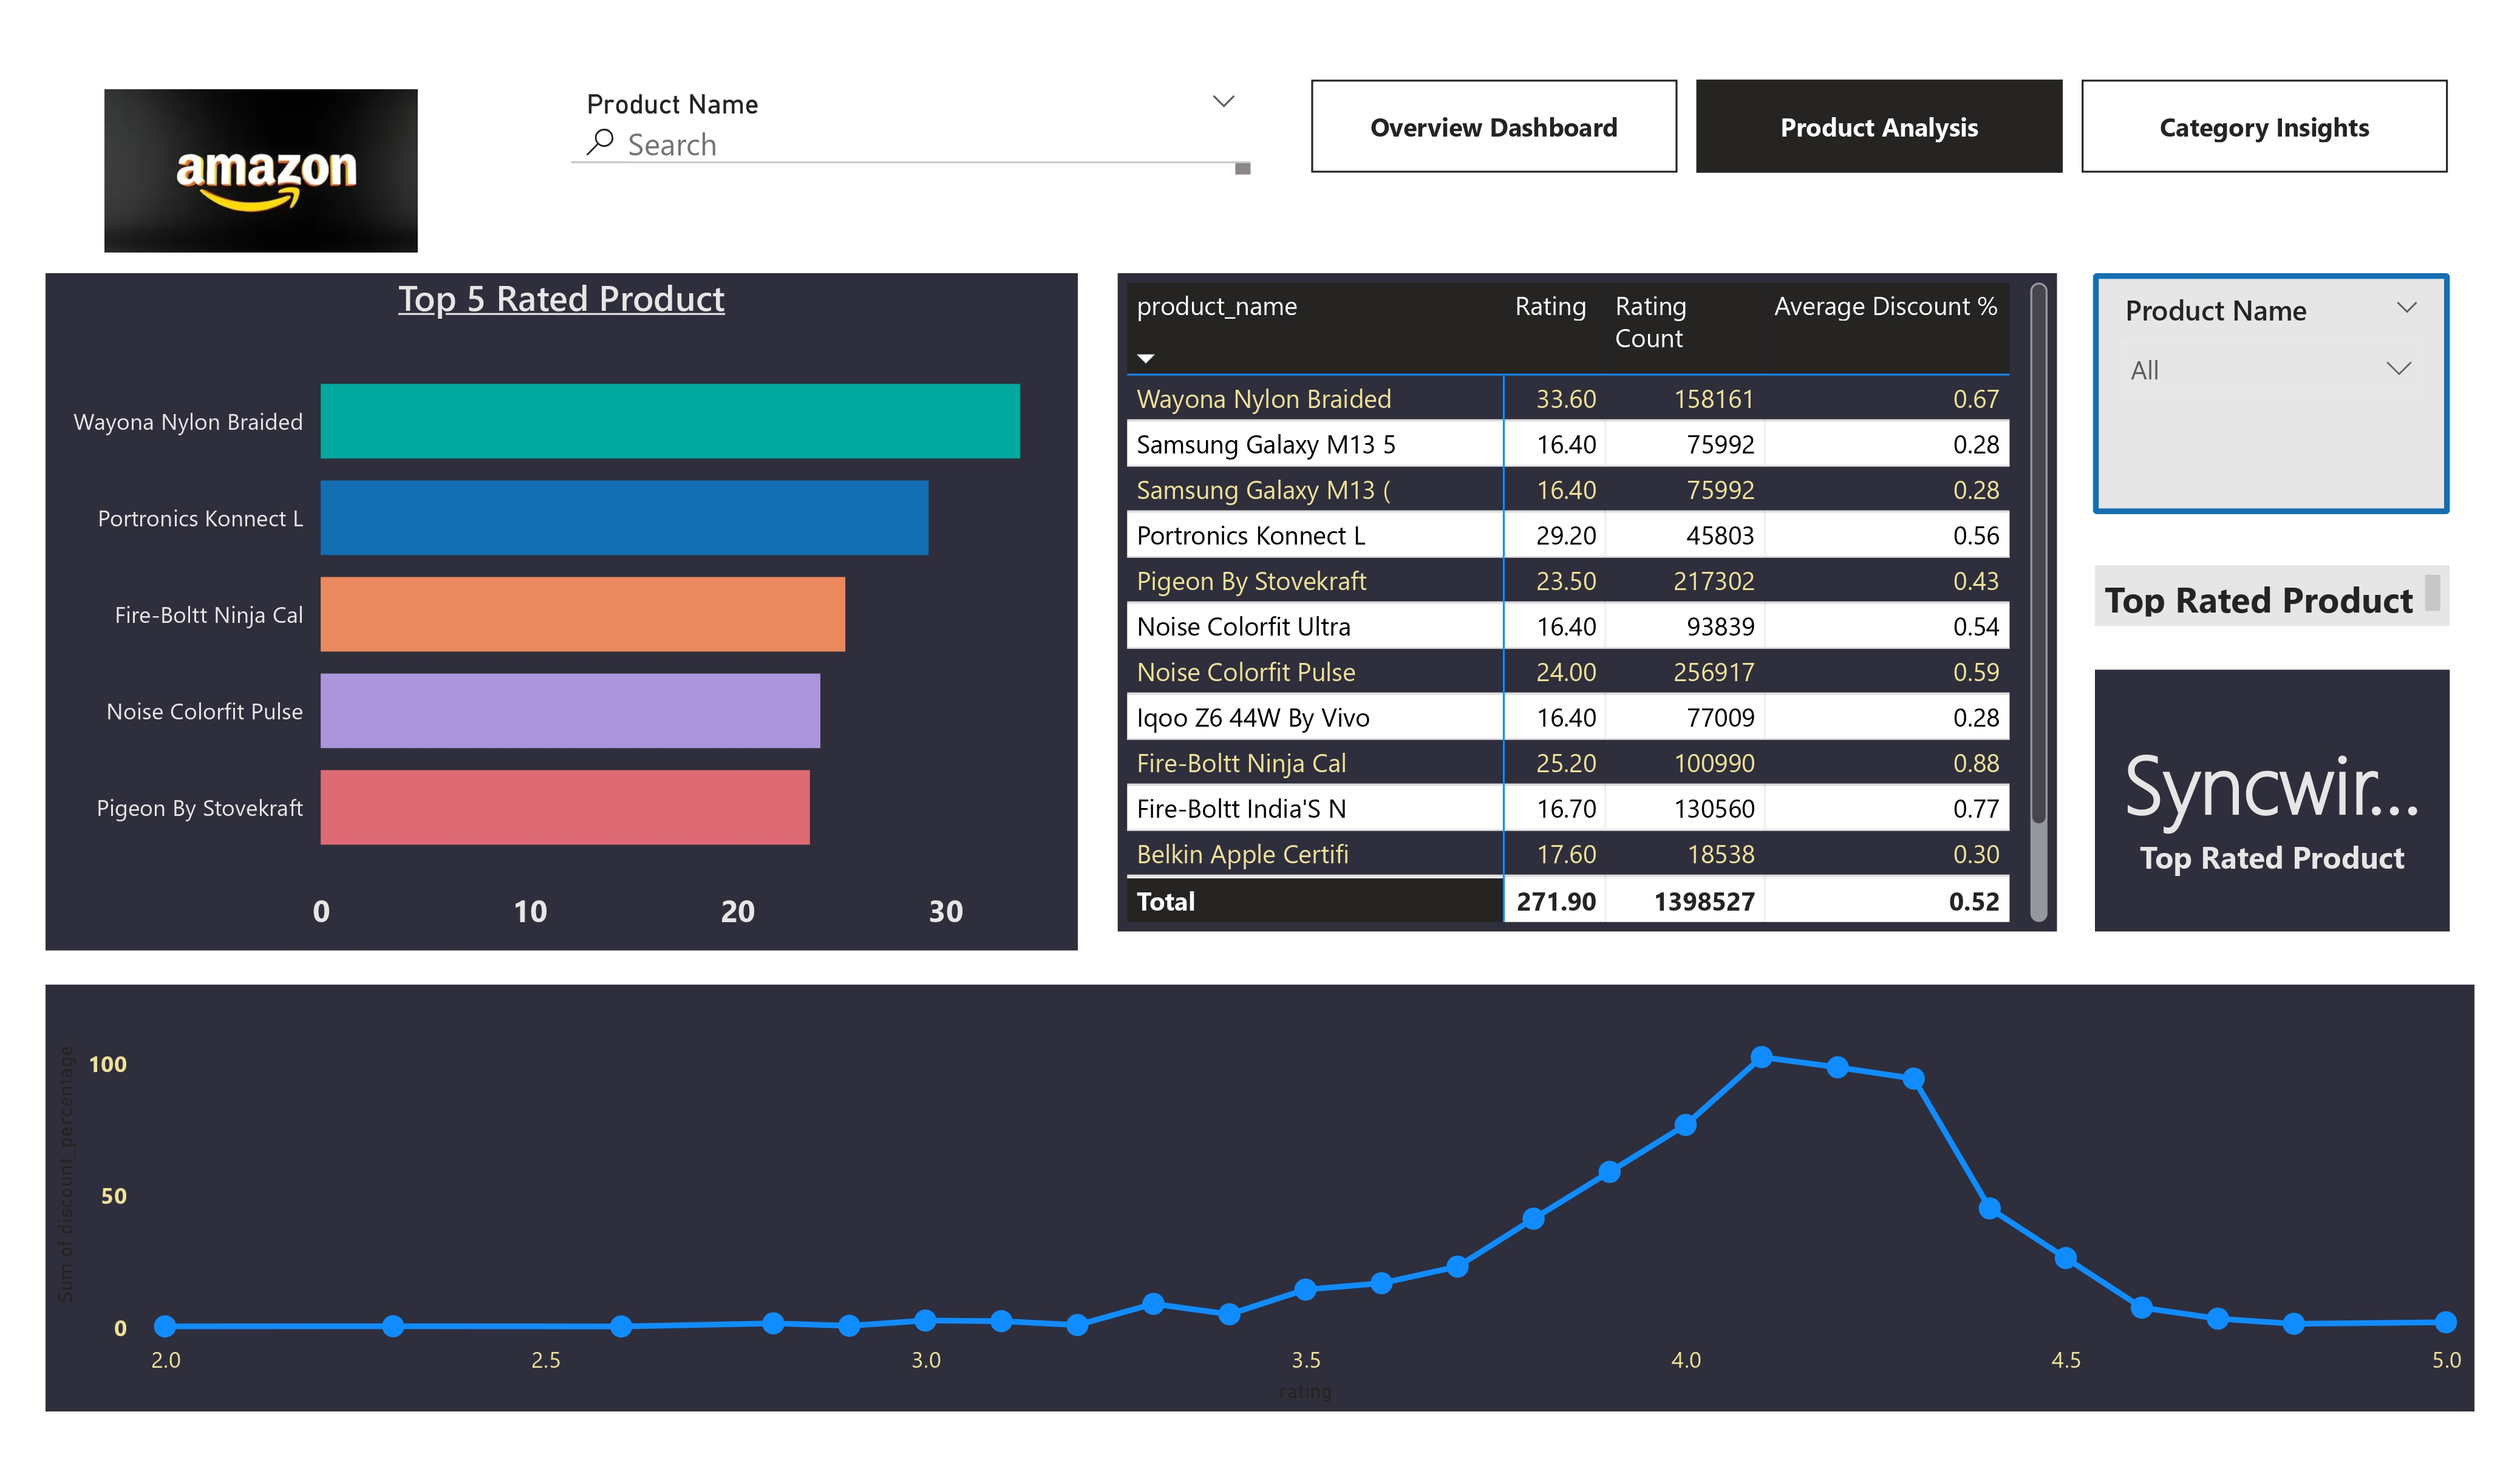

This screenshot's page, from the dashboard's own definition file:
{"tool":"powerbi","page":{"name":"Product Analysis","canvas":[1280,720],"ordinal":1},"visuals":[{"type":"barChart","title":"Top 5 Rated Product","fields":{"Category":["Amazon Sales.product_name"],"Y":["Sum(Amazon Sales.rating)"]},"box":[0,120,544.4,357.1],"z":0},{"type":"lineChart","fields":{"Category":["Amazon Sales.rating"],"Y":["Sum(Amazon Sales.discount_percentage)"]},"box":[0,494.6,1280.5,225.4],"z":1000},{"type":"pivotTable","fields":{"Values":["Sum(Amazon Sales.rating)","Sum(Amazon Sales.rating_count)","Amazon Sales.Average Discount %"],"Rows":["Amazon Sales.product_name"]},"box":[564.9,120,494.6,346.8],"z":2000},{"type":"card","fields":{"Values":["Amazon Sales.Top Rated Product"]},"box":[1080,329.3,187.3,137.6],"z":3000},{"type":"textbox","box":[1080,273.7,187.3,32.2],"z":4000},{"type":"slicer","fields":{"Values":["Amazon Sales.Main Category"]},"box":[1079.5,120.3,187.7,126.7],"z":5000},{"type":"pageNavigator","box":[667.3,17.6,600,49.8],"z":5001},{"type":"slicer","fields":{"Values":["Amazon Sales.product_name"]},"box":[272.2,17.6,367.3,55.6],"z":5002},{"type":"image","box":[0,17.6,226.8,96.6],"z":5003}]}

Visuals, with their boxes in screenshot pixels (x1, y1, x2, y2):
"Top 5 Rated Product" barChart: x1=39 y1=277 x2=1059 y2=946
lineChart - Amazon Sales.rating x Sum(Amazon Sales.discount_percentage): x1=39 y1=979 x2=2437 y2=1401
pivotTable - Sum(Amazon Sales.rating) x Sum(Amazon Sales.rating_count): x1=1097 y1=277 x2=2023 y2=926
card - Amazon Sales.Top Rated Product: x1=2062 y1=669 x2=2413 y2=926
textbox: x1=2062 y1=565 x2=2413 y2=625
slicer - Amazon Sales.Main Category: x1=2061 y1=277 x2=2413 y2=515
pageNavigator: x1=1289 y1=86 x2=2413 y2=178
slicer - Amazon Sales.product_name: x1=549 y1=86 x2=1237 y2=189
image: x1=39 y1=86 x2=464 y2=267
